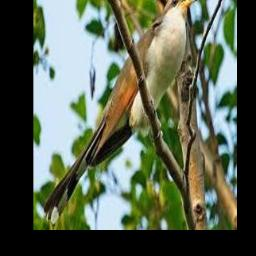Cuckoo: (43, 0, 196, 221)
